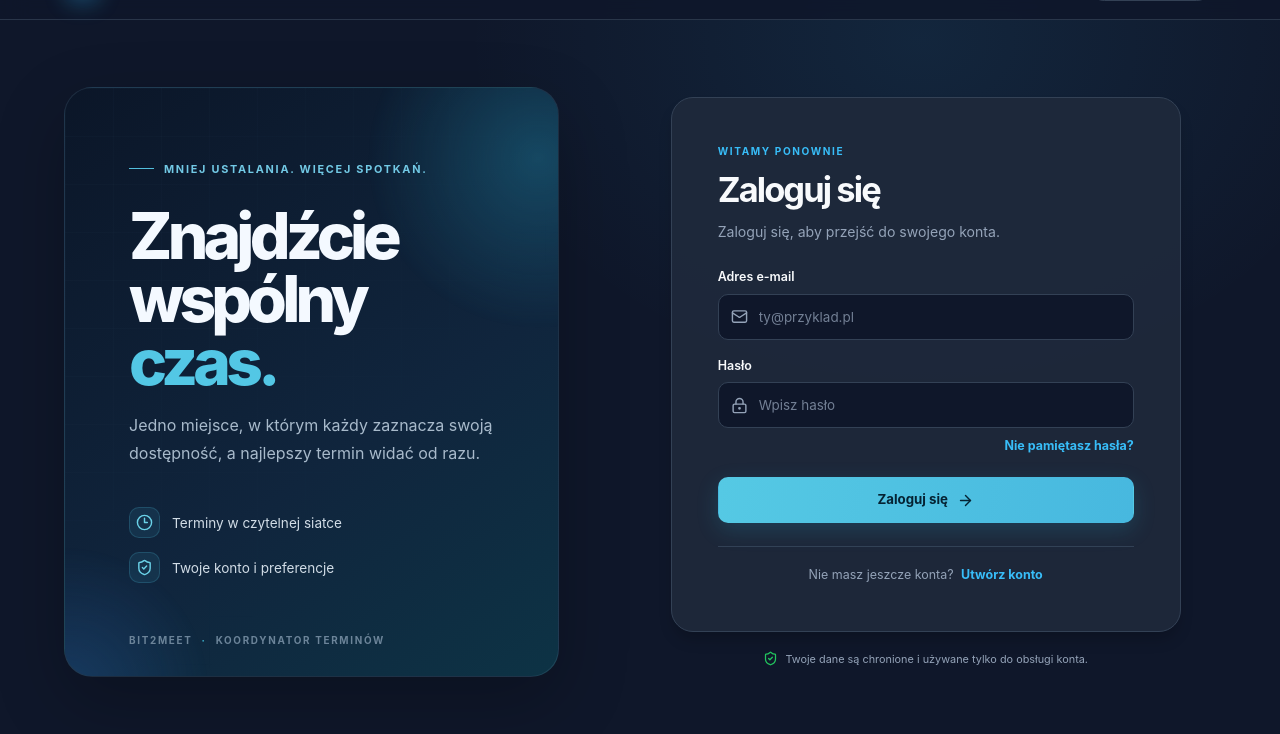
it: Bit2Meet authentication UI › requests a reset code and submits matching new passwords
Step 1. Click the button "Nie pamiętasz hasła?" → (1069, 447), box [1004, 437, 1134, 456]
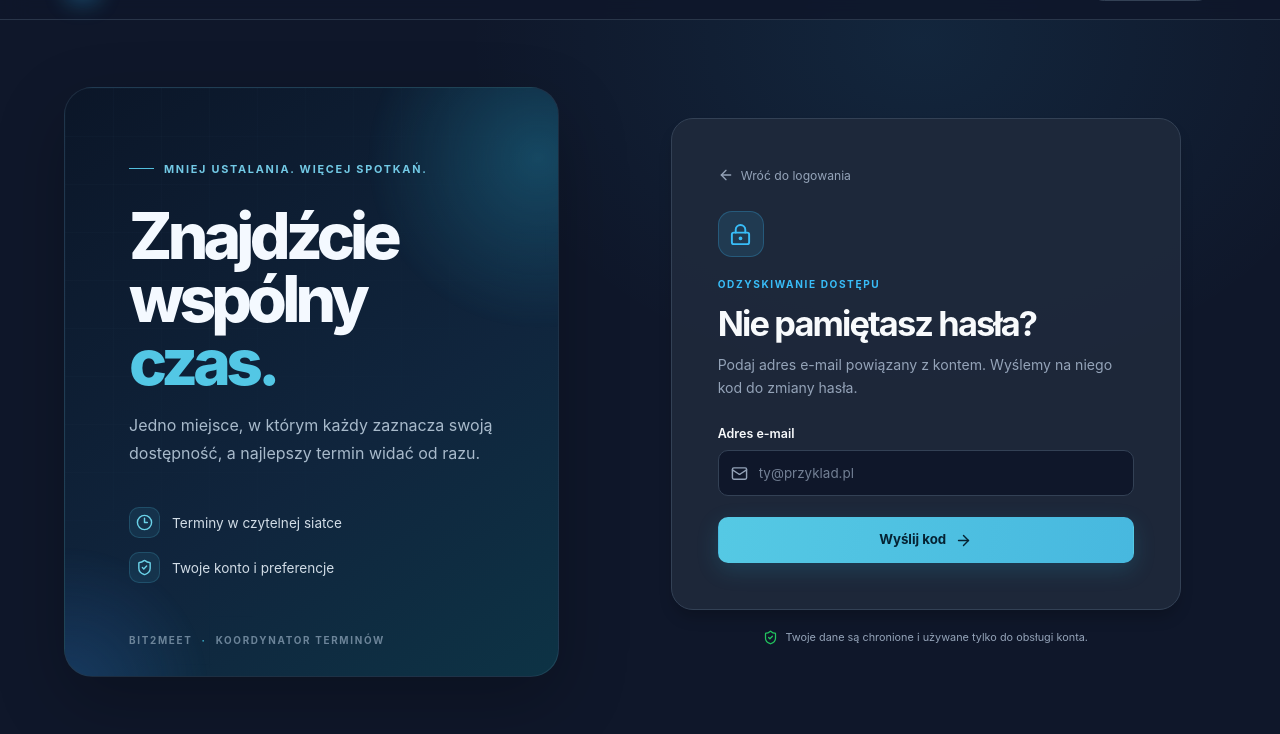
Step 2. Type "anna@example.com" into the field labelled "Adres e-mail" → (926, 473), box [718, 450, 1134, 496]
Step 3. Click the button "Wyślij kod" → (926, 540), box [718, 517, 1134, 563]
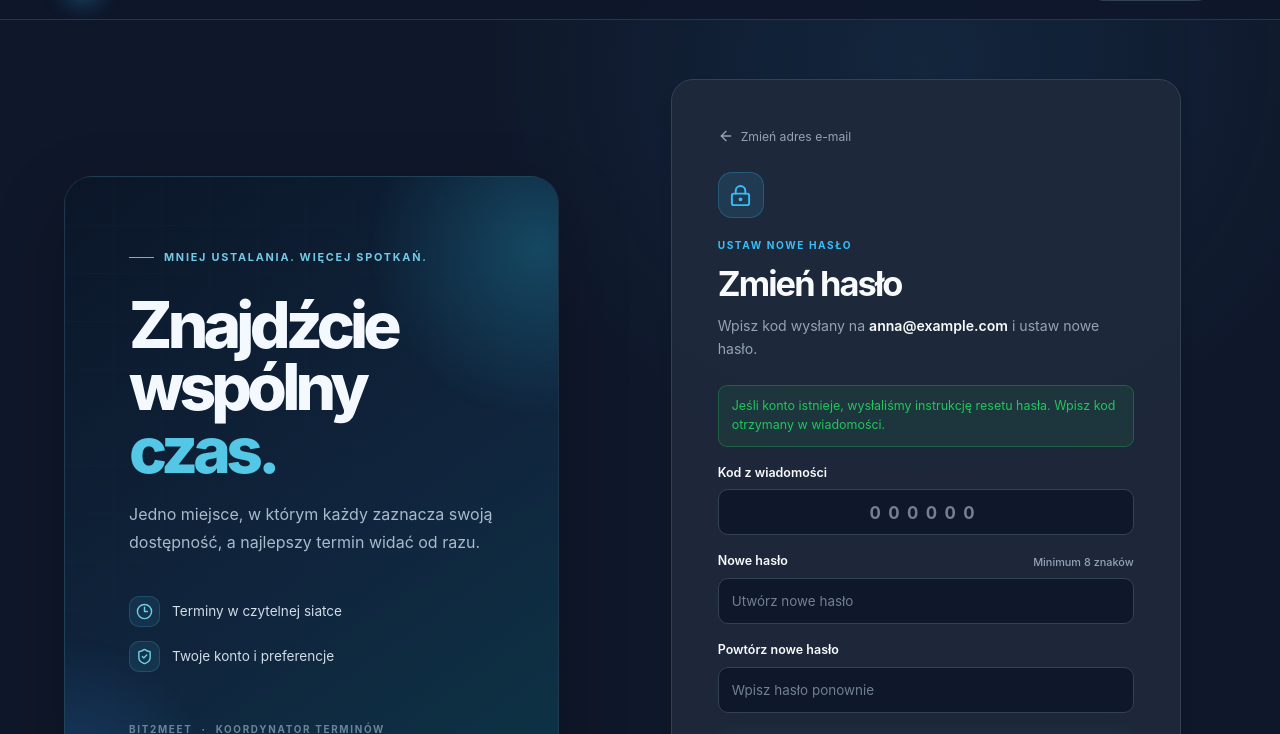
Result: the heading "Zmień hasło" is shown at [718, 263, 902, 304]
Step 4. Type "654321" into the field labelled "Kod z wiadomości" → (926, 512), box [718, 490, 1134, 536]
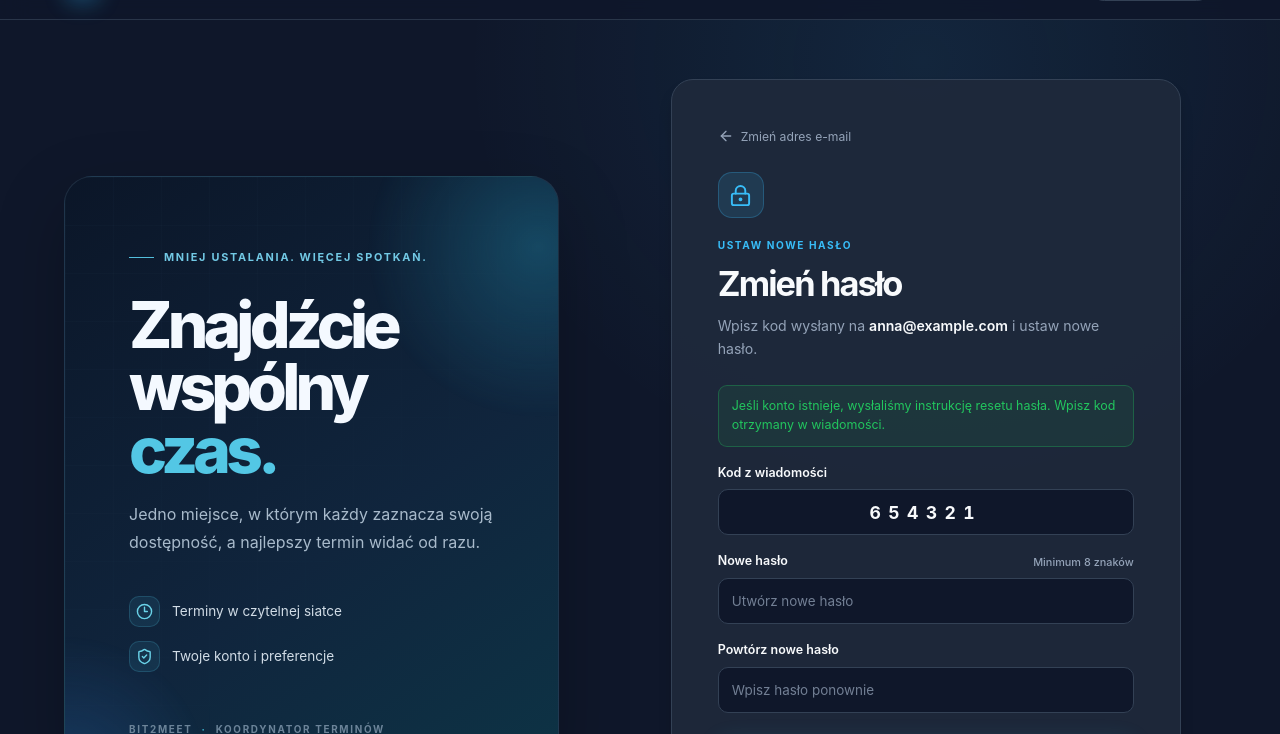
Step 5. Type "NoweSilneHaslo123!" into the password field labelled "Nowe hasło Minimum 8 znaków" → (926, 601), box [718, 578, 1134, 624]
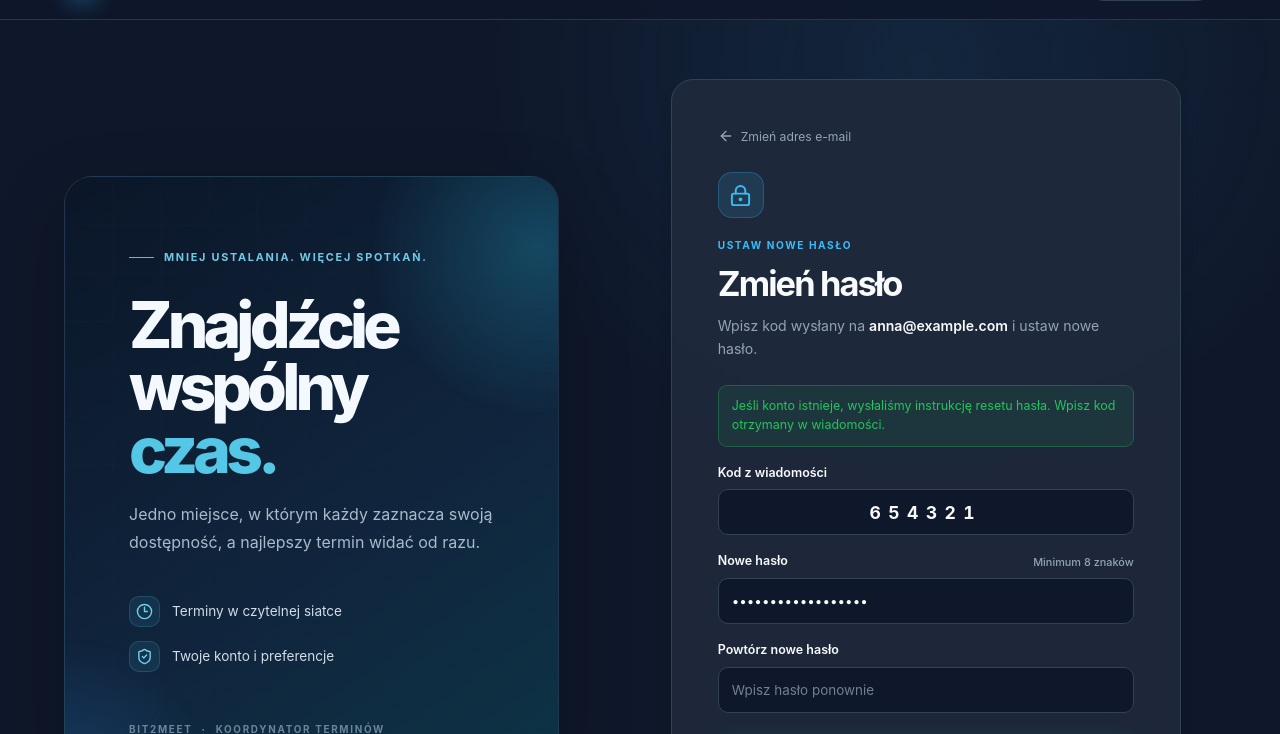
Step 6. Type "NoweSilneHaslo123!" into the password field labelled "Powtórz nowe hasło" → (926, 690), box [718, 667, 1134, 713]
(page scrolled)
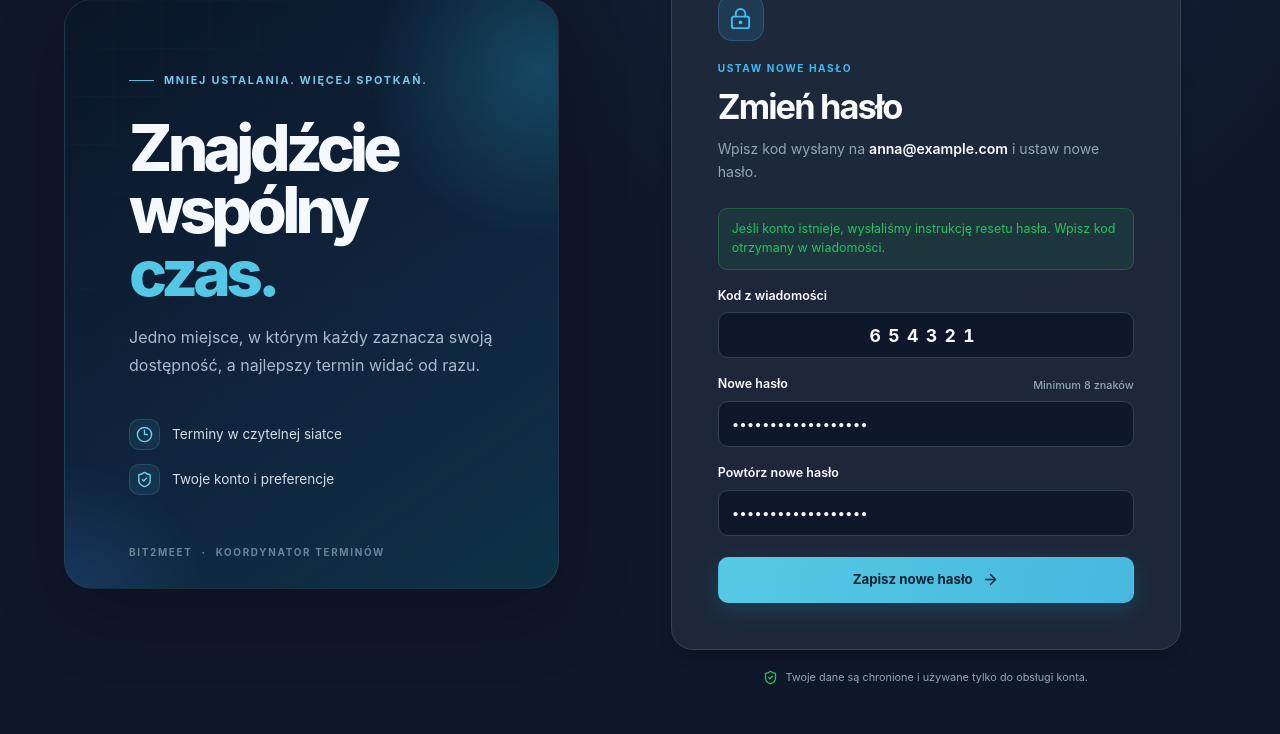
Step 7. Click the button "Zapisz nowe hasło" → (926, 580), box [718, 557, 1134, 603]
(page scrolled)
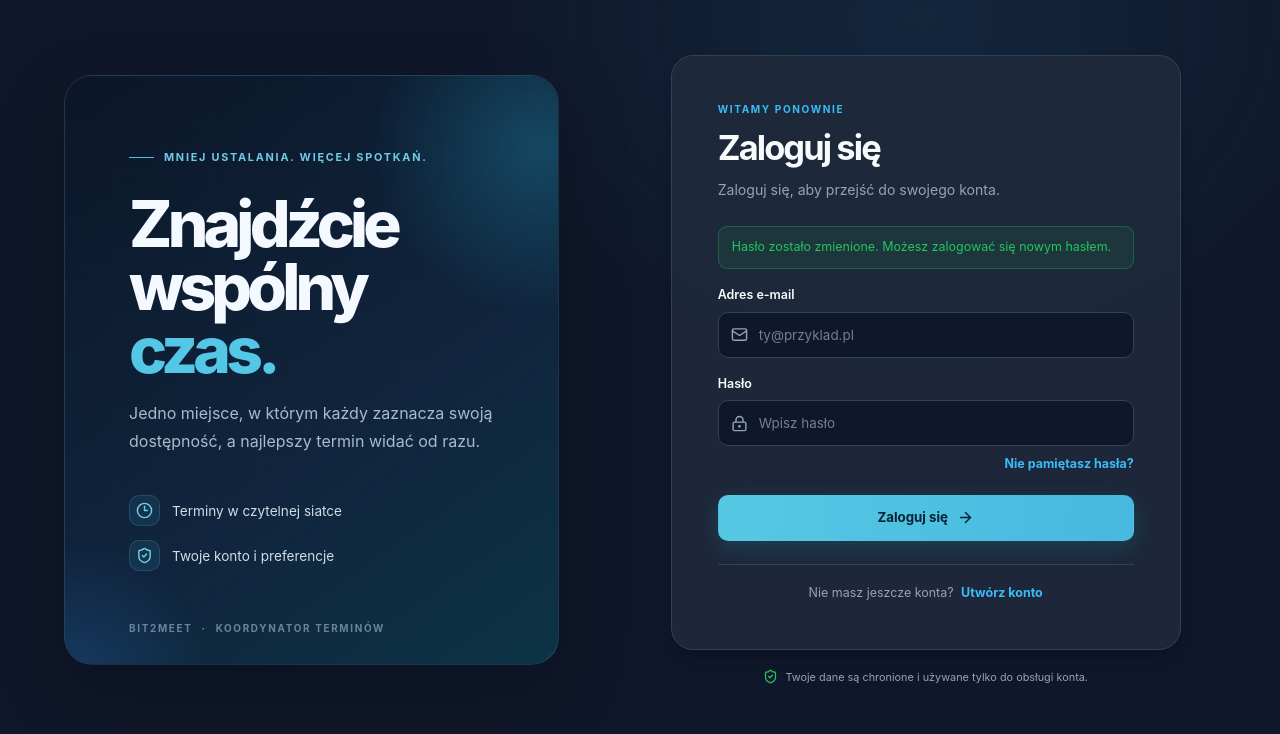
Result: the heading "Zaloguj się" is shown at [718, 127, 880, 168]
